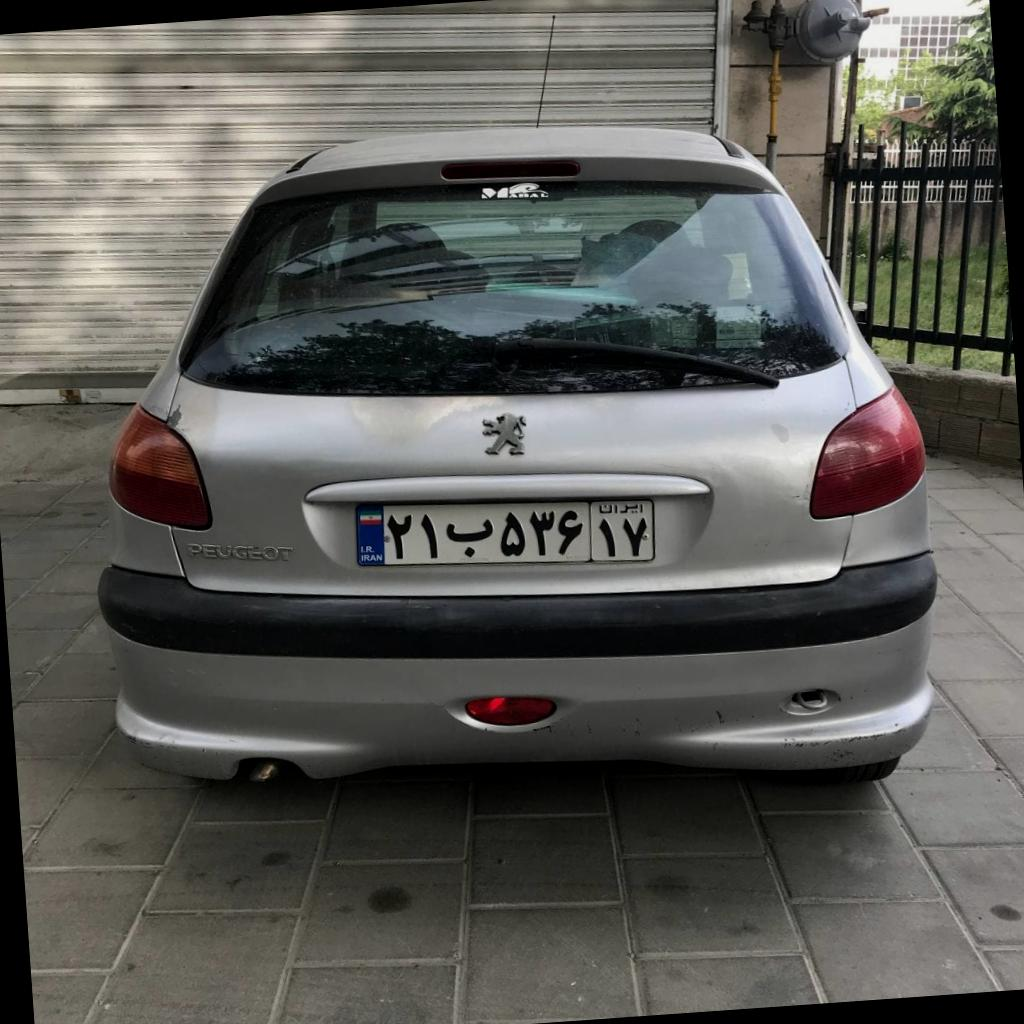Plates: (357, 501, 655, 566)
